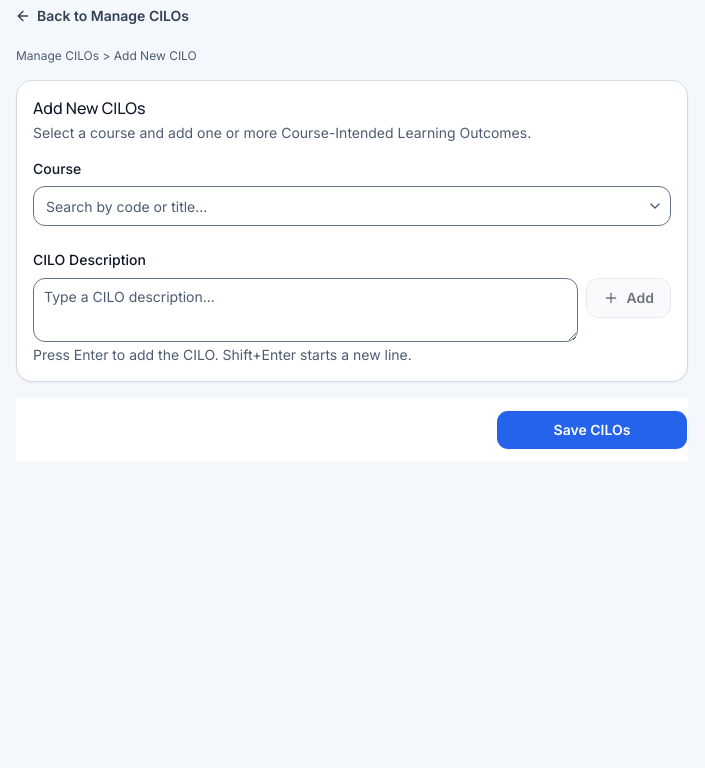
Scenario: AddCiloForm › saves to the selected course and links to its alignment workspace
This screenshot has width=705, height=768.
Type "Design instruction" into the text box labelled "CILO Description". click: [305, 310]
box: [33, 278, 578, 342]
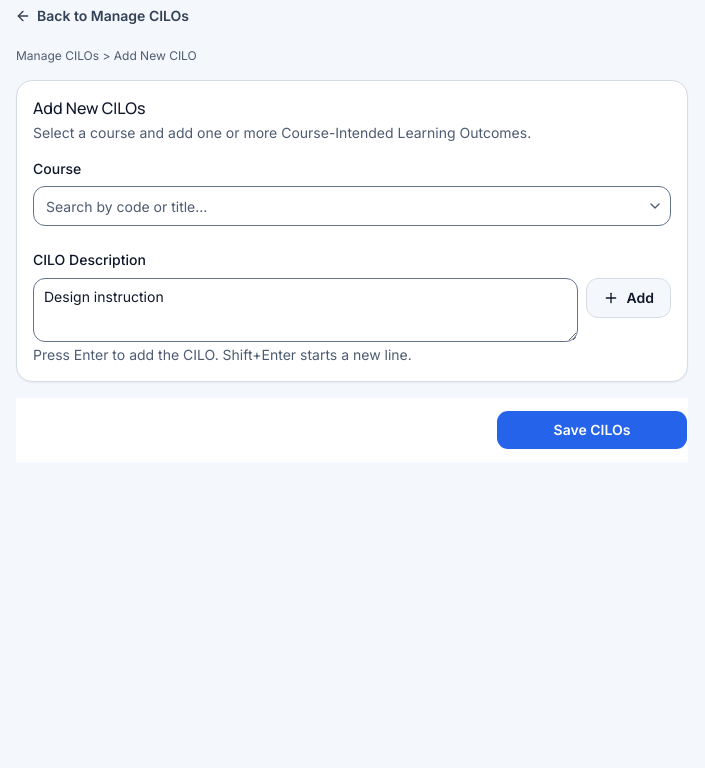
Click the button "Add". click: [628, 298]
box: [586, 278, 671, 318]
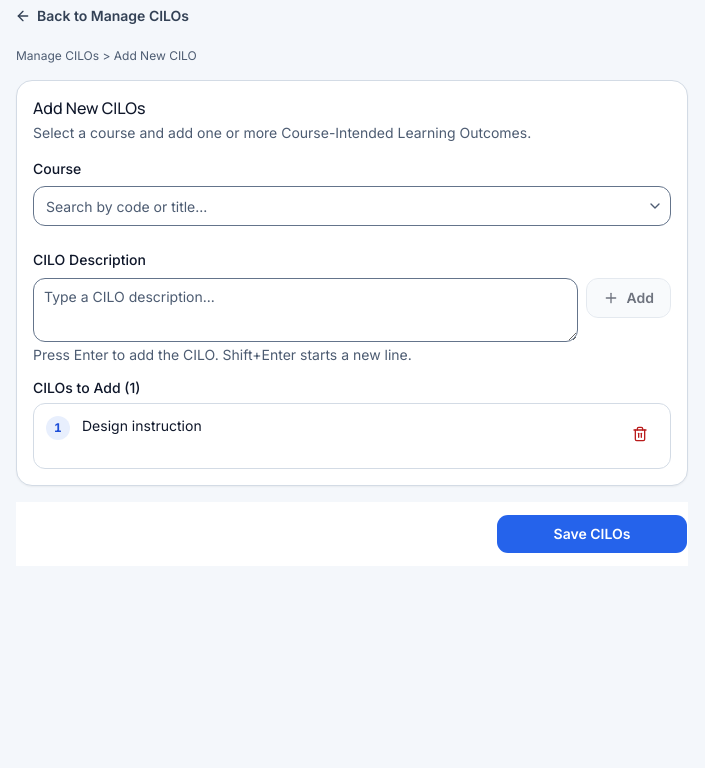
Type "CS101" into the dropdown labelled "Course". click: [338, 206]
box: [34, 186, 643, 226]
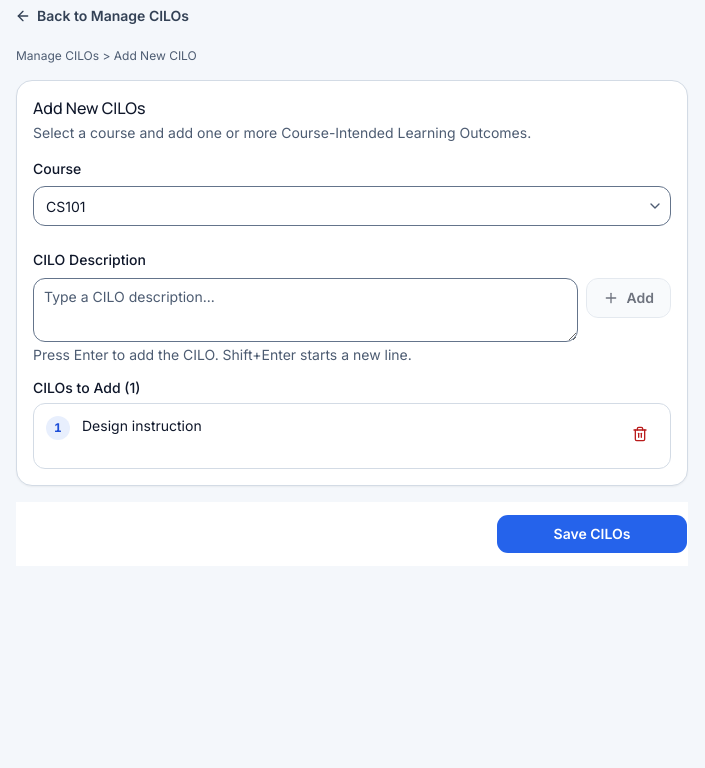
Press ArrowDown in the dropdown labelled "Course", box [34, 186, 643, 226]
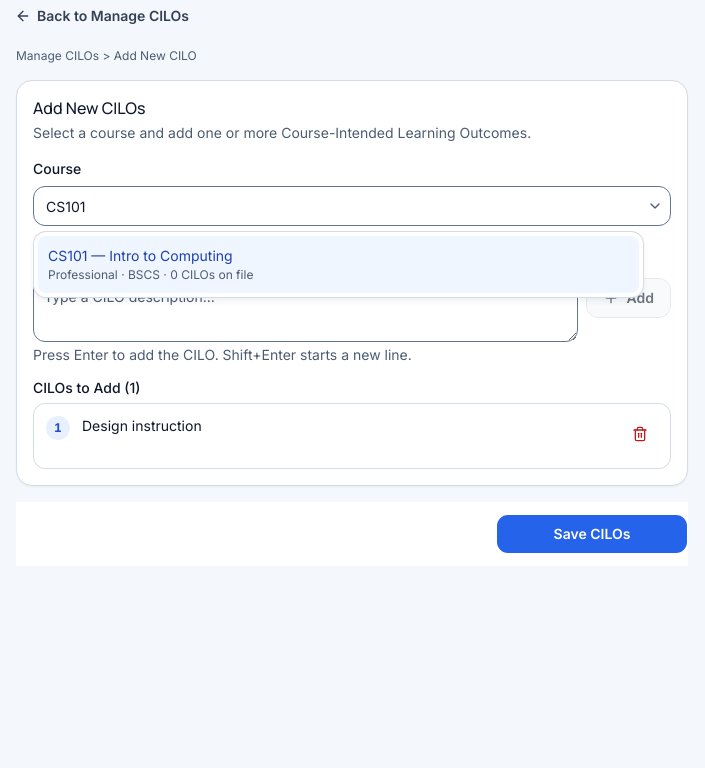
Click the option "CS101". click: [140, 256]
box: [38, 236, 639, 293]
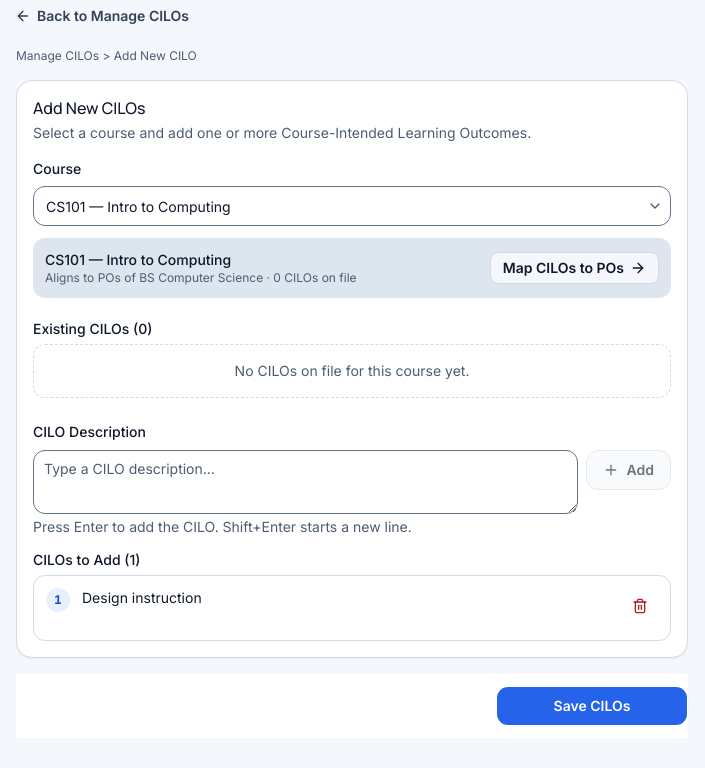
Now the text "Existing CILOs (0)" is shown, box [33, 320, 152, 337]
Click the button "Save CILOs". click: [592, 706]
box: [496, 686, 688, 726]
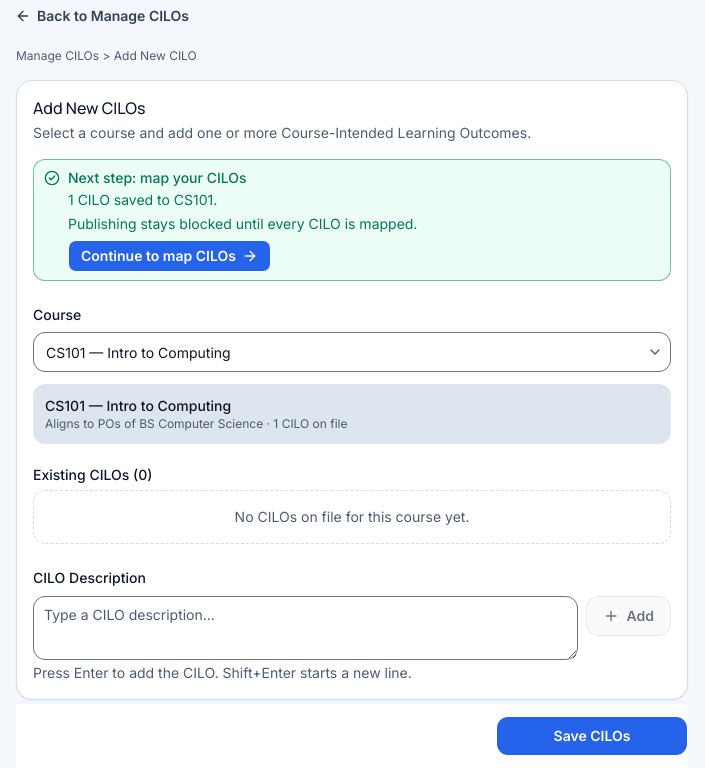
Now the dropdown labelled "Course" holds "CS101 — Intro to Computing", box [34, 332, 643, 372]
Now the message shows "1 CILO saved to CS101.", box [68, 191, 217, 208]
